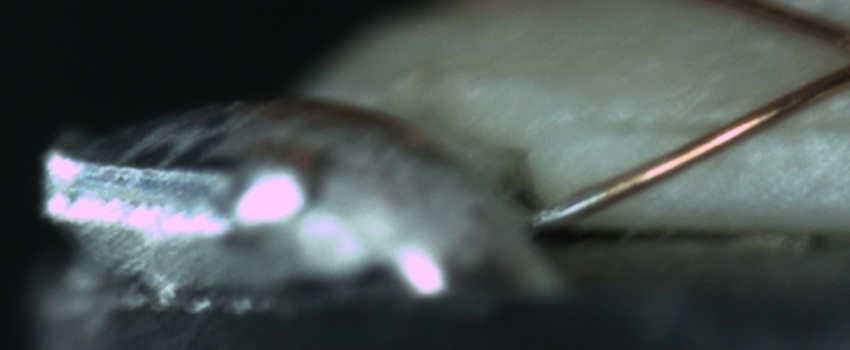DL: (578, 94, 843, 162)
TS: (530, 185, 599, 231)
